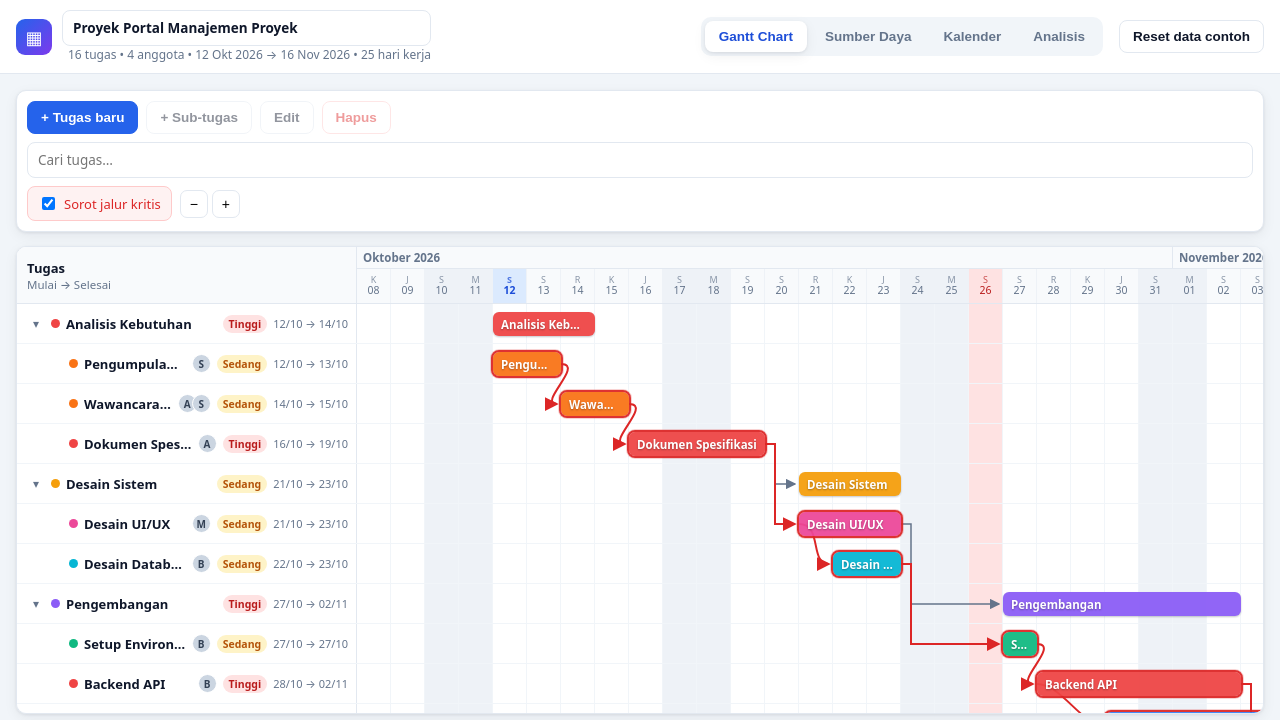
Scenario: App (UI) › menambah hari libur di tab Kalender
The image size is (1280, 720).
Step 1. Click the button "Kalender" → (972, 36), box [929,21,1015,52]
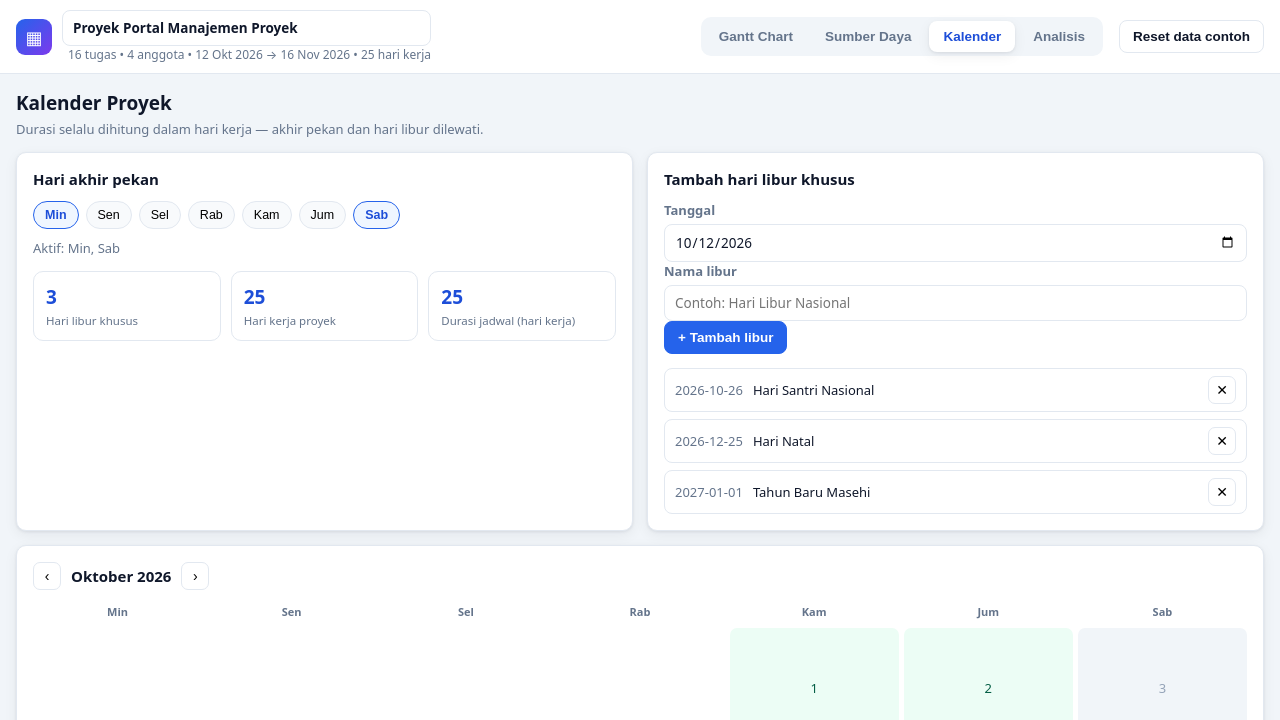
Step 2. Type "2026-11-17" into the date field labelled "Tanggal" → (956, 243), box [664,224,1247,262]
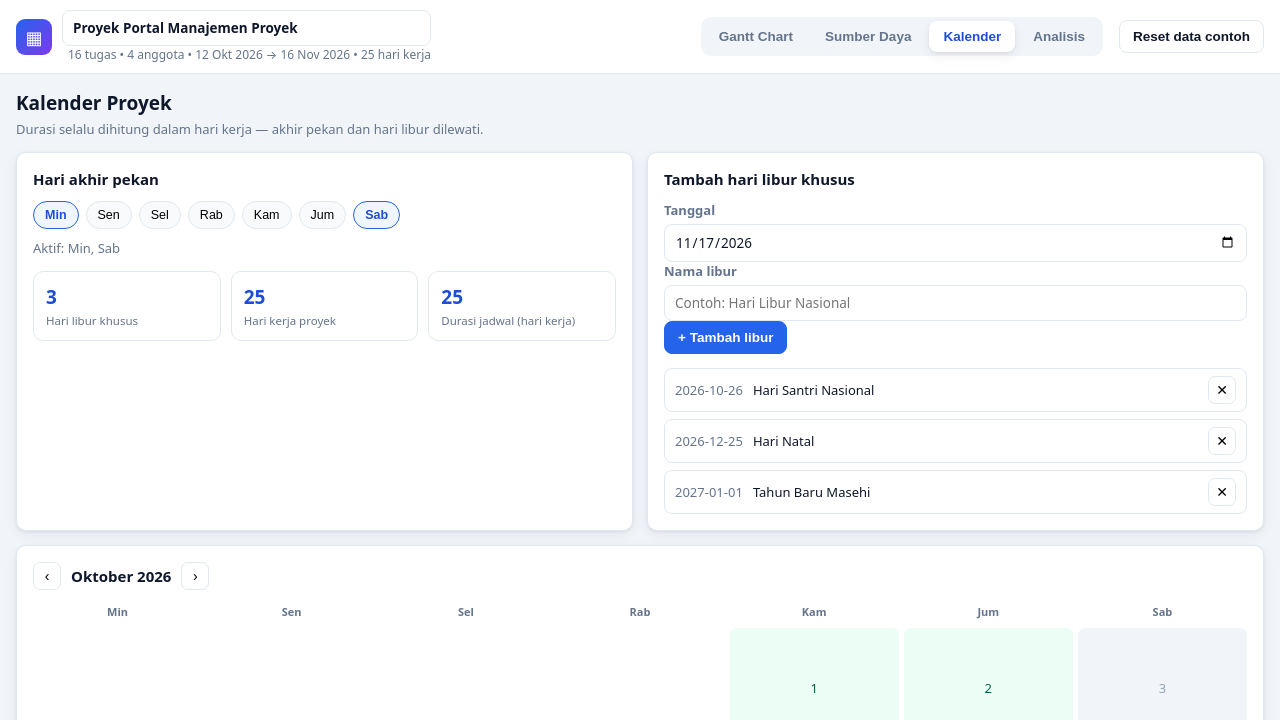
Step 3. Type "Libur Khusus" into the field labelled "Nama libur" → (956, 303), box [664,285,1247,321]
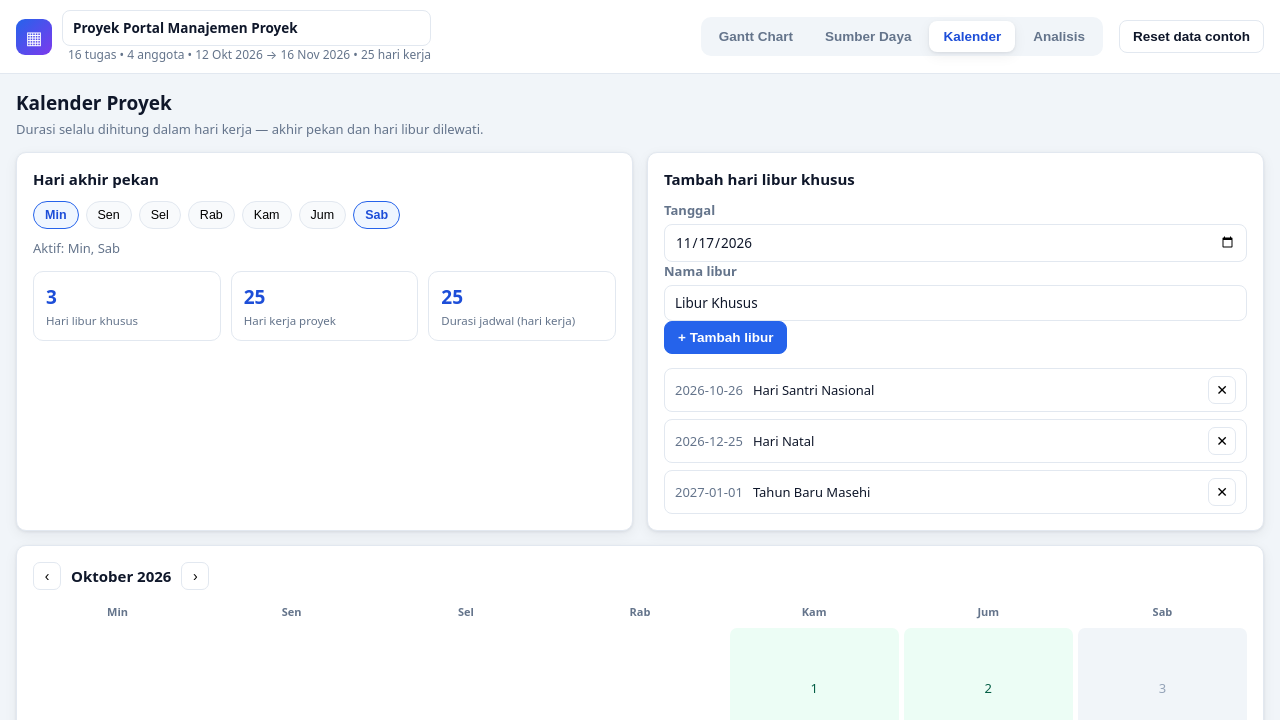
Step 4. Click the button "+ Tambah libur" → (726, 338), box [664,321,787,354]
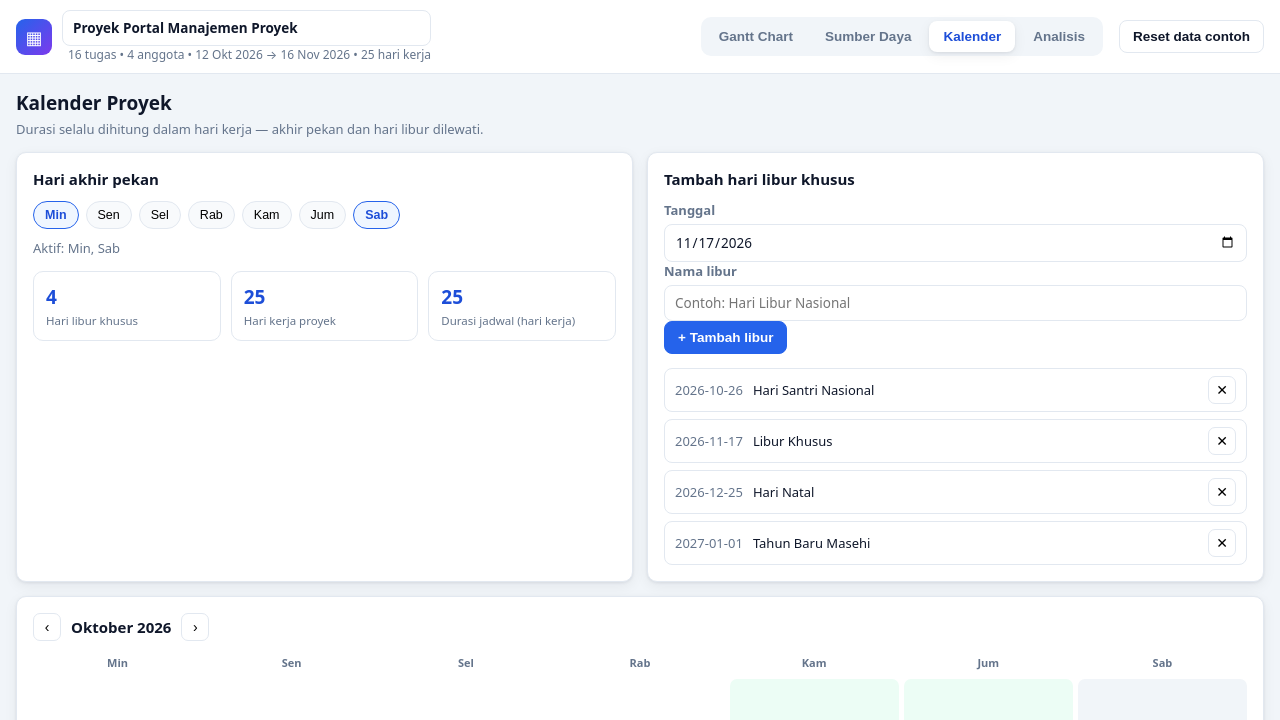
Expected: the text "Libur Khusus" is shown, [753,432,832,450]
Expected: the number of list items is 4, [664,368,1247,412]; [664,419,1247,463]; [664,470,1247,514]; [664,521,1247,565]
